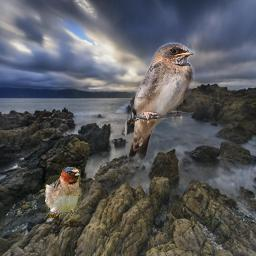Swallow: (120, 42, 195, 160), (44, 167, 82, 219)
